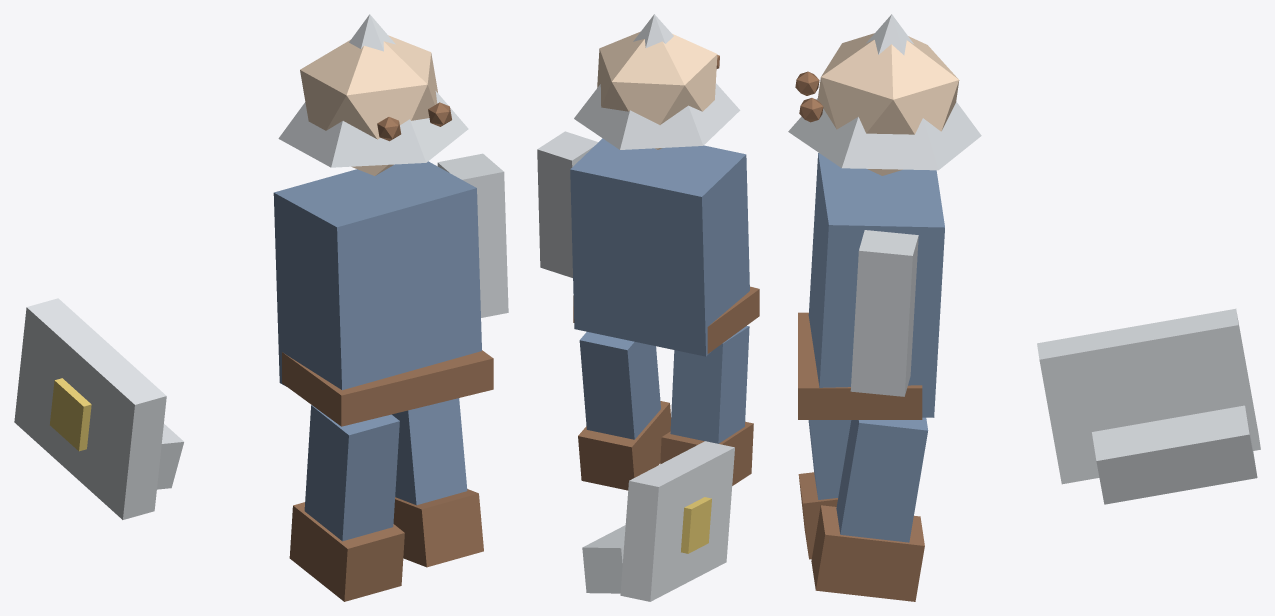
Rendered from npcpose_guard_attack_10.glb.
3 views of the same model, side by side, from view 1: azimuth 30°, elevation 25°; view 2: azimuth 150°, elevation 25°; view 3: azimuth 270°, elevation 25° (orthographic). The views are drawn at different scales.
Visible parts, largest first — view 1: npcpose; view 2: npcpose; view 3: npcpose.
Part boxes in pixels (x1,y1,x2,y2): npcpose: (14, 14, 508, 601); npcpose: (537, 14, 759, 601); npcpose: (788, 14, 1260, 601).
Size of the model in its own units: 0.9176 by 1.57 by 1.22.
